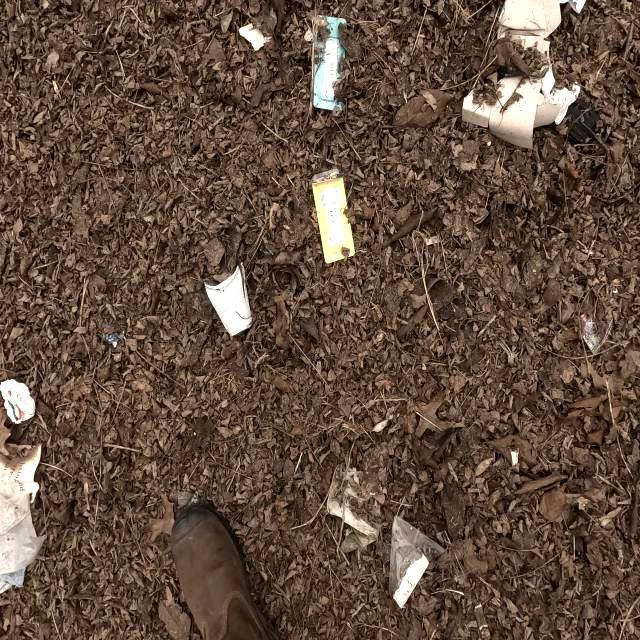Coffee Cup: (204, 260, 252, 338)
Paper: (326, 461, 380, 569), (0, 468, 48, 588), (310, 168, 356, 264), (313, 13, 347, 111), (540, 65, 582, 125), (0, 378, 36, 424)
Plastic: (238, 23, 272, 51)
